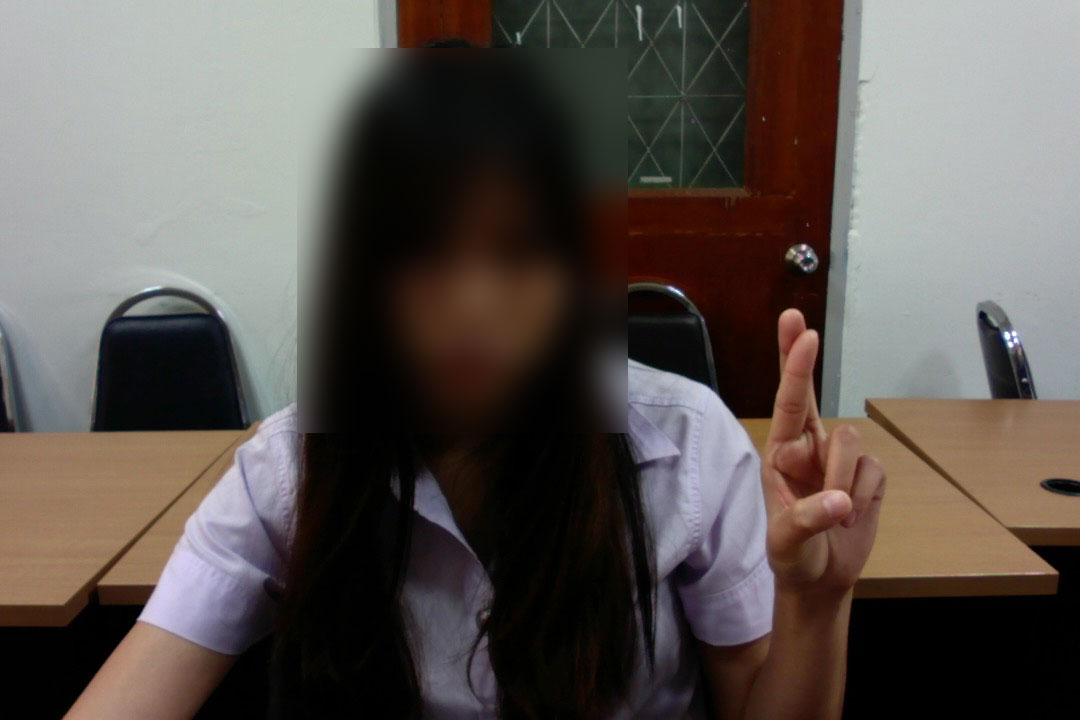rao: (748, 305, 894, 599)
